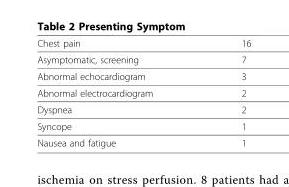table: (36, 37, 250, 148)
table column: (36, 37, 196, 148), (196, 37, 250, 148)
table column header: (36, 37, 250, 50)
table row: (36, 50, 250, 67), (36, 67, 250, 84), (36, 100, 250, 117), (36, 117, 250, 134), (36, 84, 250, 100), (36, 134, 250, 148), (36, 37, 250, 50)
